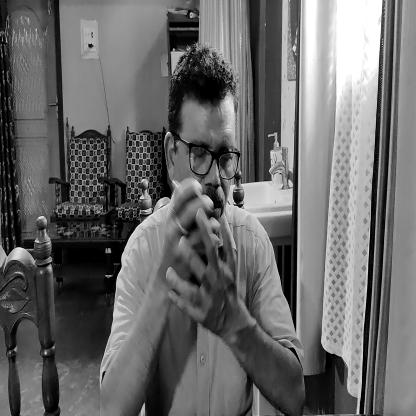Normal: (164, 33, 238, 243)
